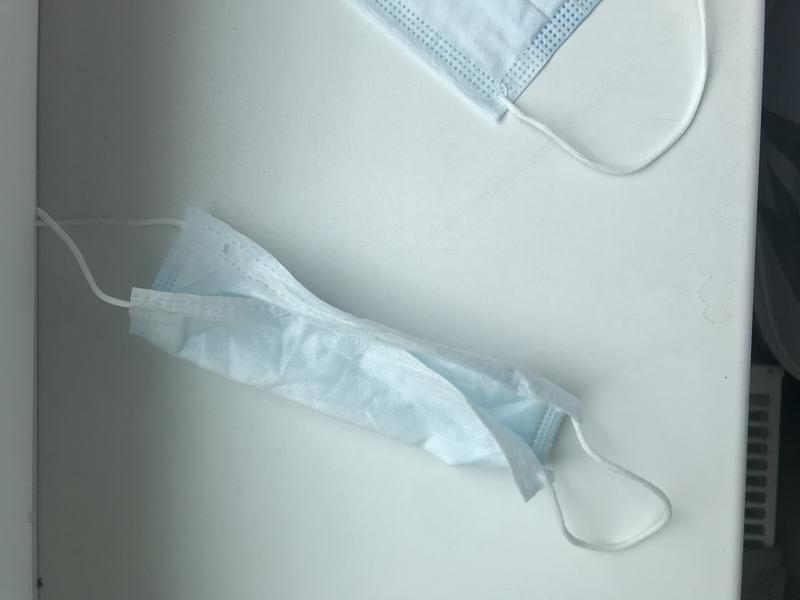medical_mask: (33, 203, 675, 556)
